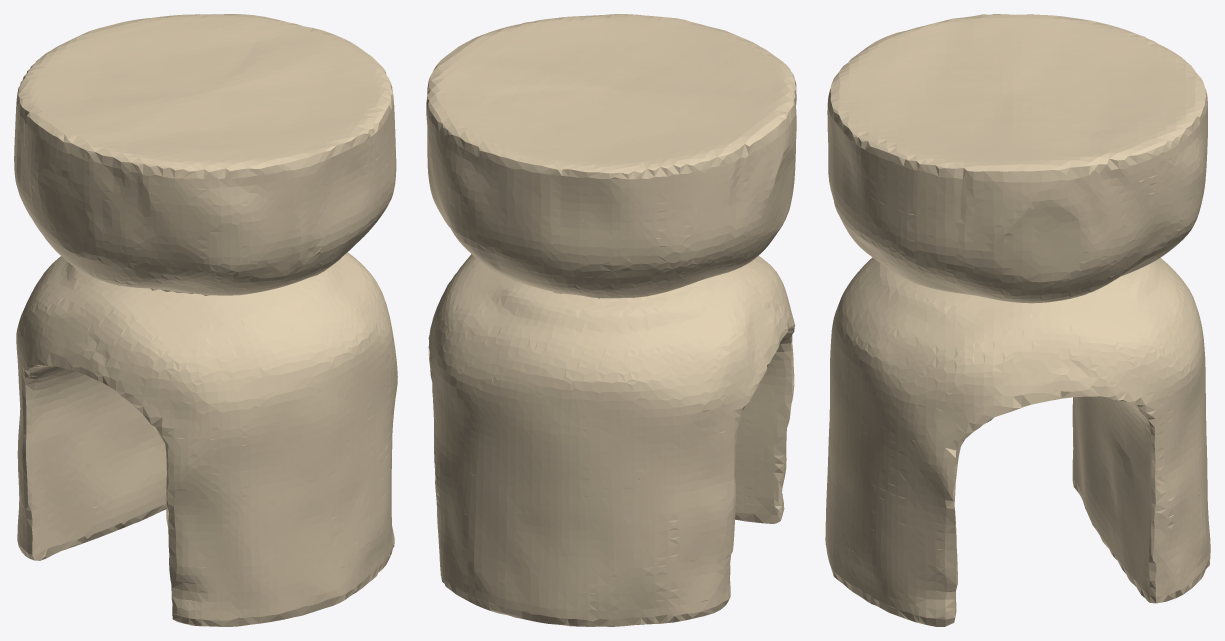
Rendered from stolform-03.glb.
3 renders of one model, left to right at view 1: azimuth 30°, elevation 25°; view 2: azimuth 150°, elevation 25°; view 3: azimuth 270°, elevation 25°, orthographic.
Visible parts, largest first — view 1: stolform-03; view 2: stolform-03; view 3: stolform-03.
Boxes of the visible parts, box(x1,y1,x2,y2) form: stolform-03: box(14, 14, 397, 626); stolform-03: box(426, 14, 796, 626); stolform-03: box(825, 14, 1210, 626).
Size of the model in its own units: 0.7421 by 0.9997 by 0.7427.
